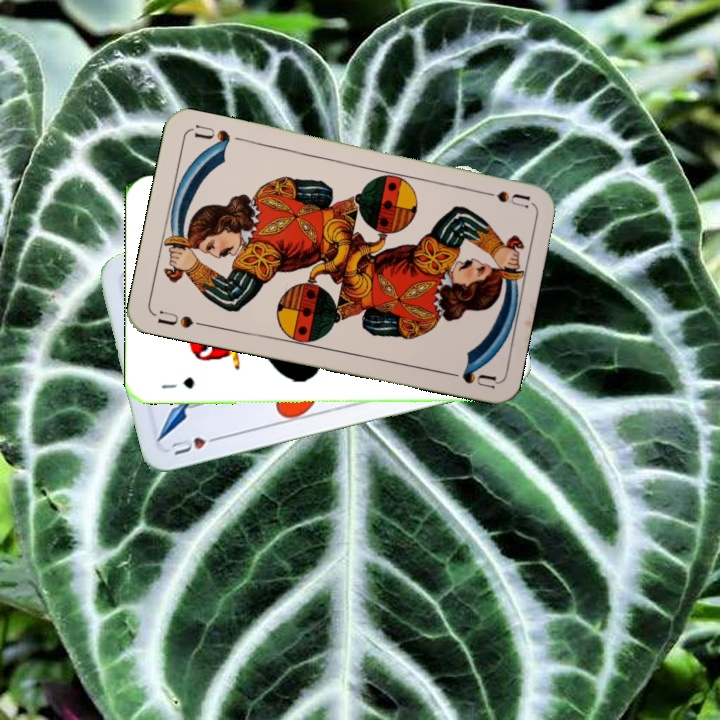GU: (157, 373, 196, 391)
HU: (166, 431, 225, 458)
SU: (472, 186, 532, 211), (151, 306, 210, 331)
